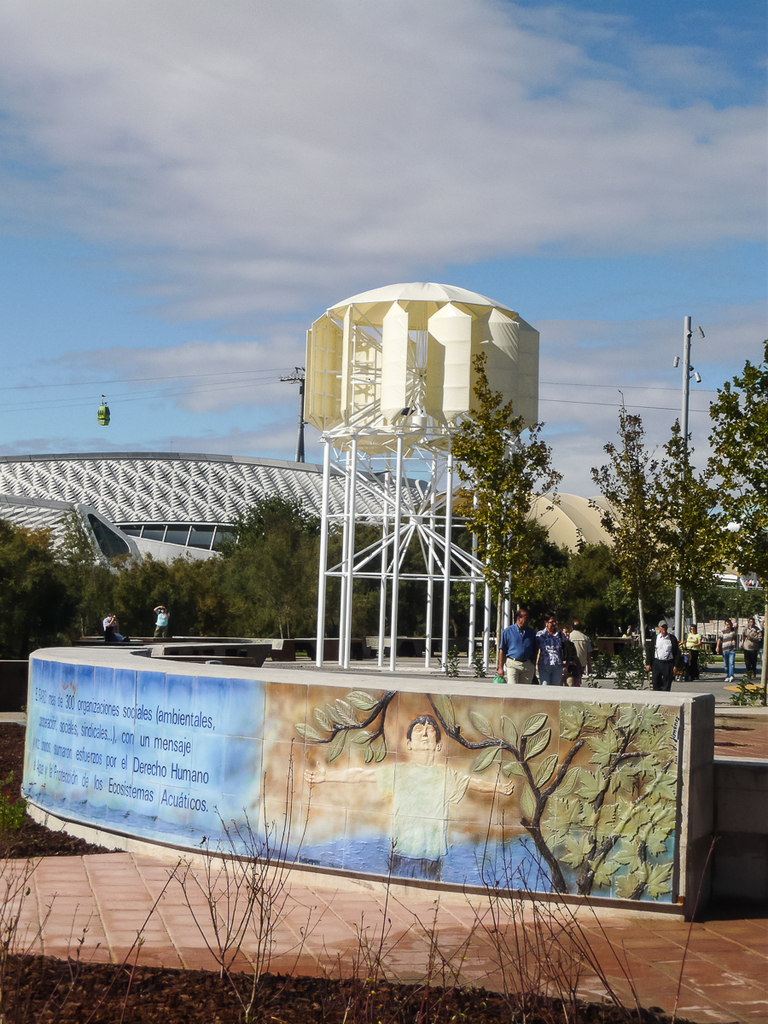Tree: (436, 333, 767, 692), (282, 692, 674, 906), (0, 491, 494, 660)
